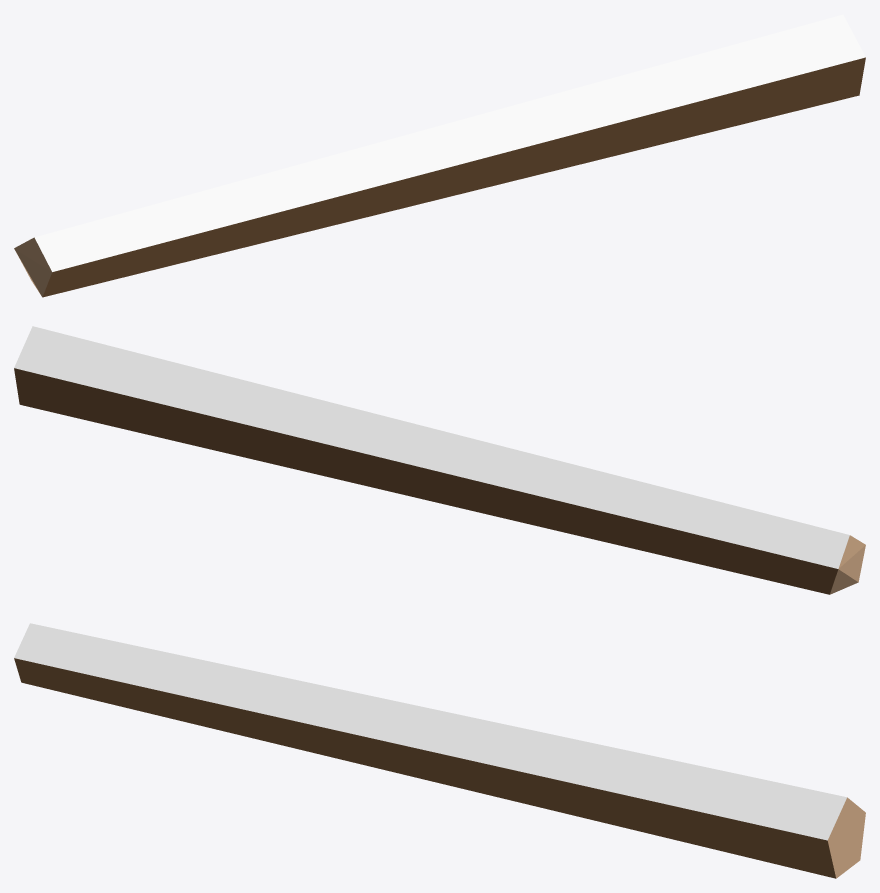
Rendered from Pine_Log_Snow_01.fbx.
3 views of the same model, one above another, from view 1: azimuth 30°, elevation 25°; view 2: azimuth 150°, elevation 25°; view 3: azimuth 330°, elevation 25° (orthographic).
Parts seen in each view (by area): view 1: Pine_Log_Snow_01; view 2: Pine_Log_Snow_01; view 3: Pine_Log_Snow_01.
Part boxes in pixels (x1,y1,x2,y2): Pine_Log_Snow_01: (14,14,865,297); Pine_Log_Snow_01: (14,326,865,594); Pine_Log_Snow_01: (14,623,865,878).
Bounding box in the file's own units: 711 × 59.08 × 65.36.
